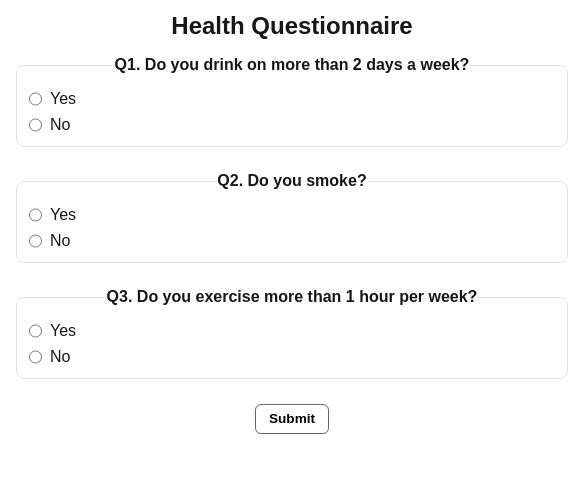
Test: Questionnaire scoring › requires all answers
The image size is (585, 494).
Click the button "Submit" at (292, 419), box [255, 404, 329, 434]
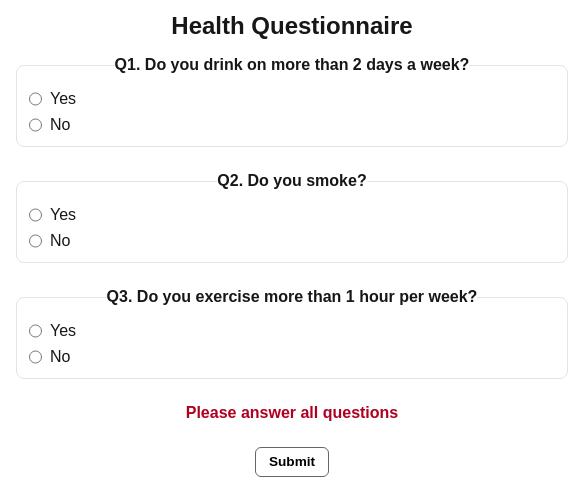
Check: the text "Please answer all questions" is shown, box [186, 404, 398, 421]
